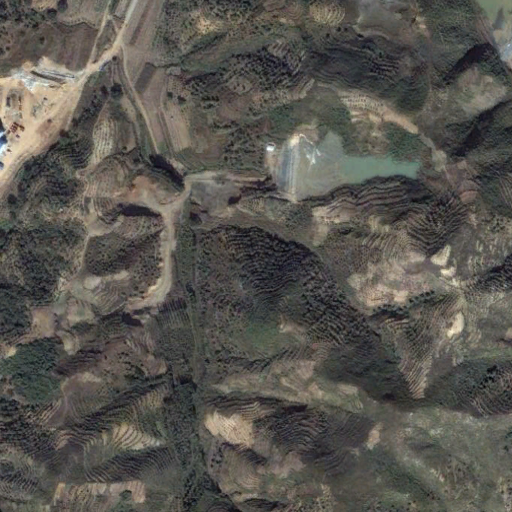tp: (262, 132, 420, 200)
